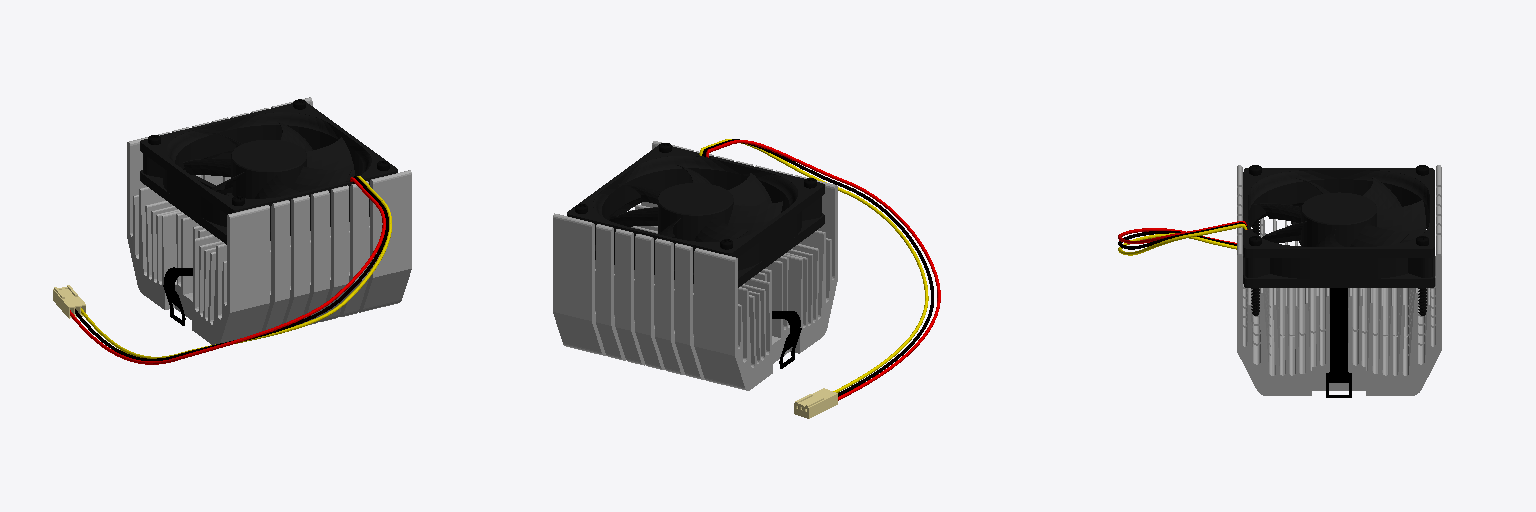
The picture shows the model from 3 angles: view 1: azimuth 30°, elevation 25°; view 2: azimuth 150°, elevation 25°; view 3: azimuth 270°, elevation 25°; orthographic projection.
Visible parts, largest first — view 1: processeor_fan; view 2: processeor_fan; view 3: processeor_fan.
Boxes of the visible parts, x1,y1,x2,y2 form: processeor_fan: [53, 97, 411, 364]; processeor_fan: [553, 139, 940, 418]; processeor_fan: [1118, 165, 1441, 397].
Size of the model in its own units: 4.01 by 2.02 by 3.97.
Materials: 8 (1 with a texture image).